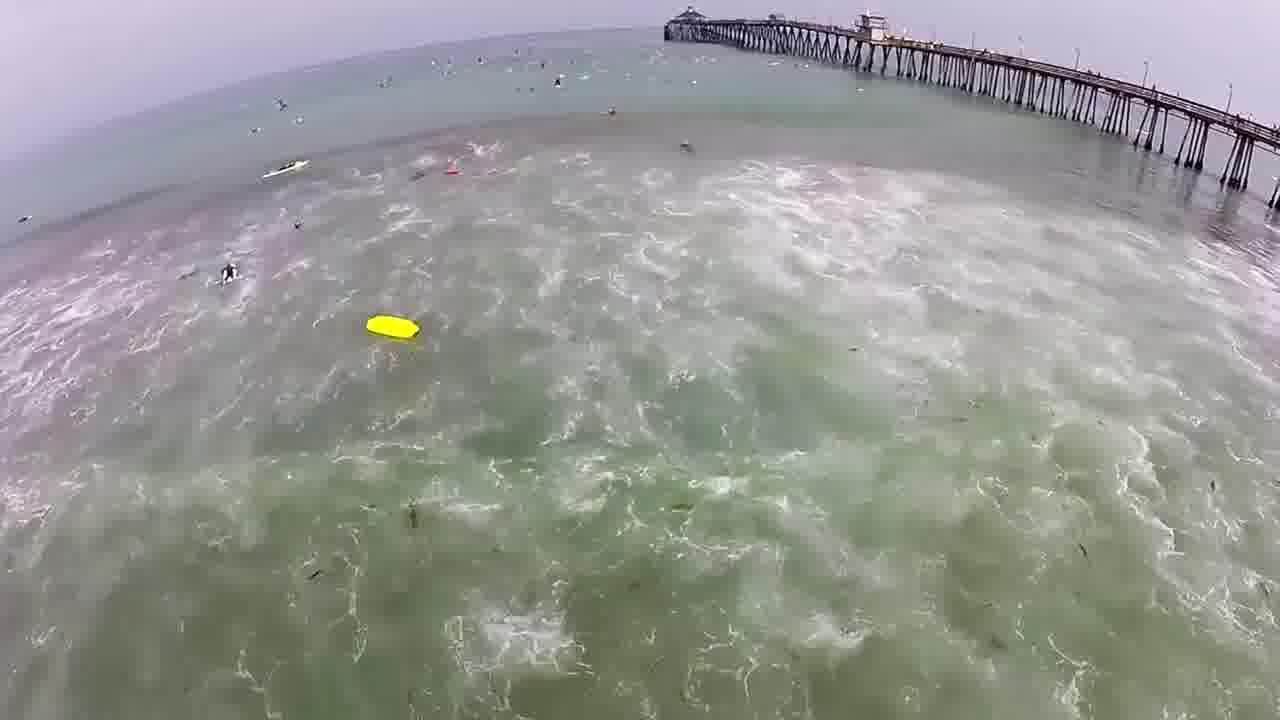swimmer: (199, 249, 246, 291)
